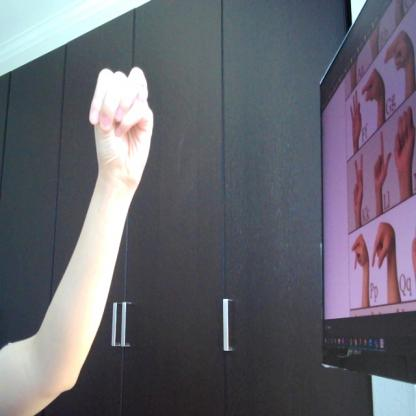M: (87, 64, 155, 194)
